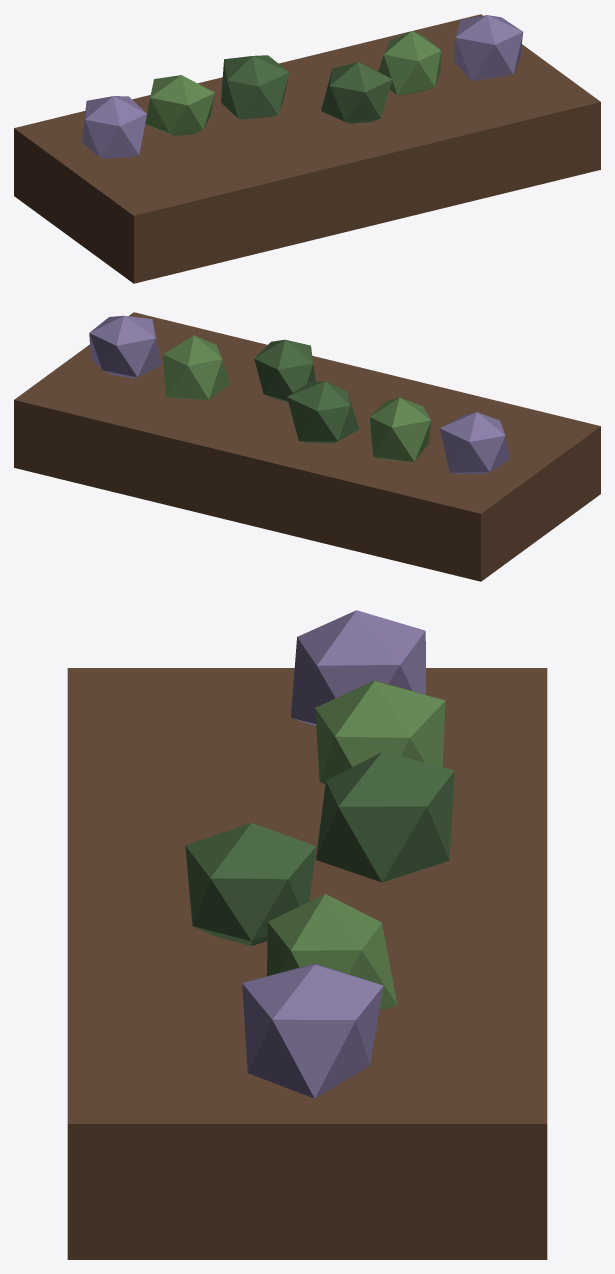
The model's file is herb_bed.glb.
The picture shows the model from 3 angles, top to bottom: view 1: azimuth 30°, elevation 25°; view 2: azimuth 150°, elevation 25°; view 3: azimuth 270°, elevation 25°; orthographic projection. The views are drawn at different scales.
Parts seen in each view (by area): view 1: herb_bed; view 2: herb_bed; view 3: herb_bed.
Part boxes in pixels (bbox=[...]): herb_bed: bbox=[14, 14, 600, 283]; herb_bed: bbox=[14, 312, 600, 581]; herb_bed: bbox=[67, 610, 547, 1259].
Bounding box in the file's own units: 1.8 × 0.45 × 0.8.
